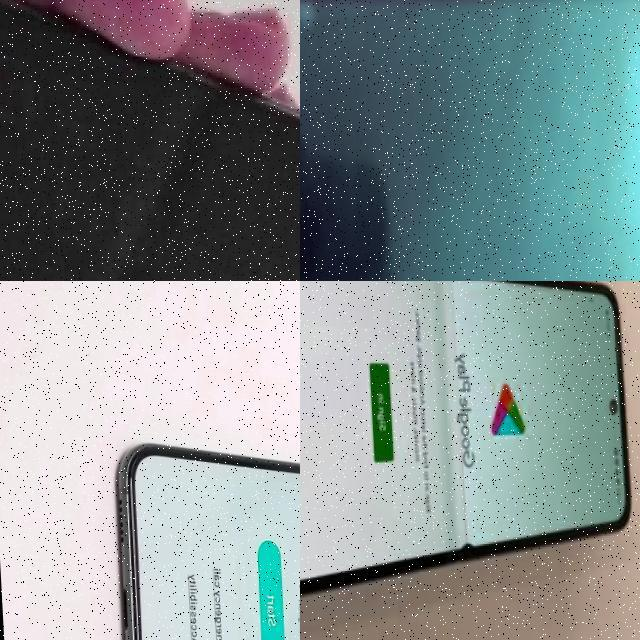dead pixel: (444, 514, 484, 575)
